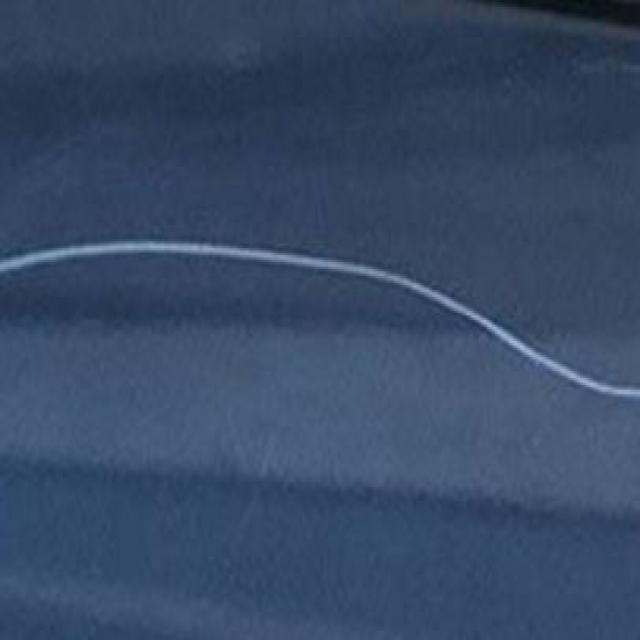scratch: (6, 234, 640, 422)
